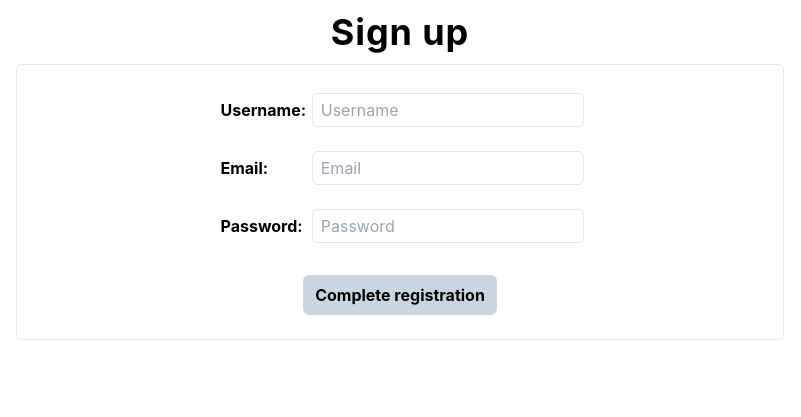
Registration form tests › Test form validation
Expected: the heading "Sign up" is shown, [331,12,469,52]
Expected: the button "Complete registration" is shown, [303,275,497,315]
Fill form
In the field labelled "Username:": (448, 110) [312,93,584,127], type "no"
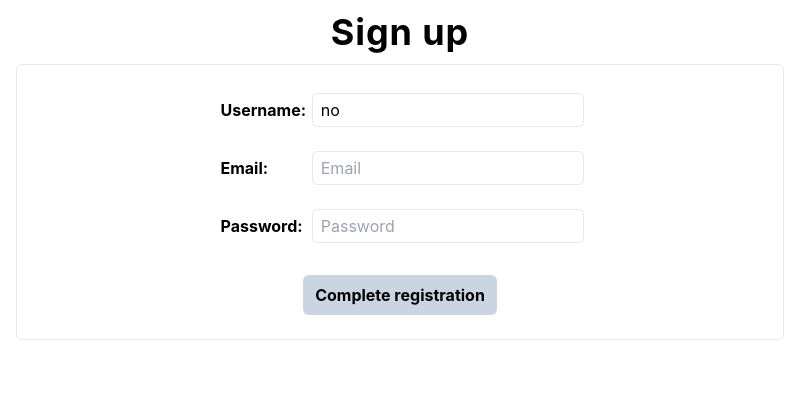
In the field labelled "Email:": (448, 168) [312,151,584,185], type "error"
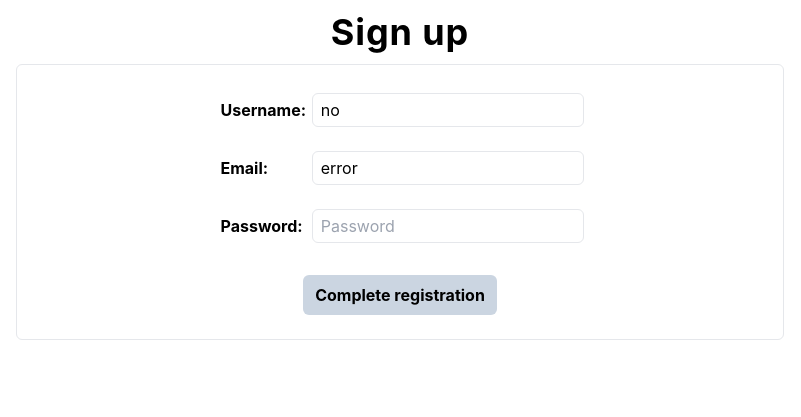
In the password field labelled "Password:": (448, 226) [312,209,584,243], type "test"
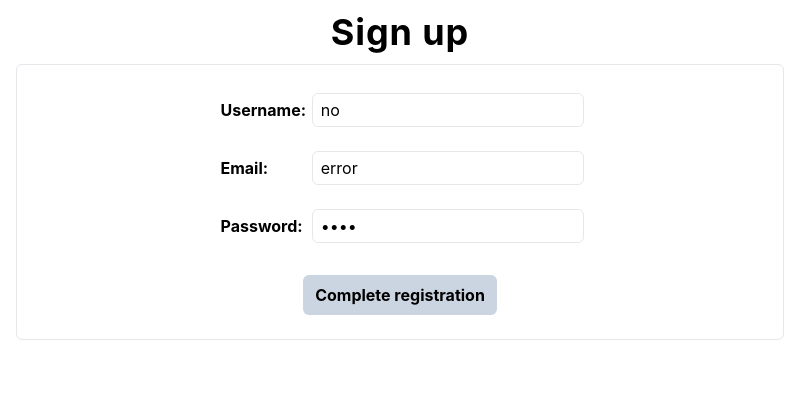
Submit the form from the button "Complete registration", box [303,275,497,315]
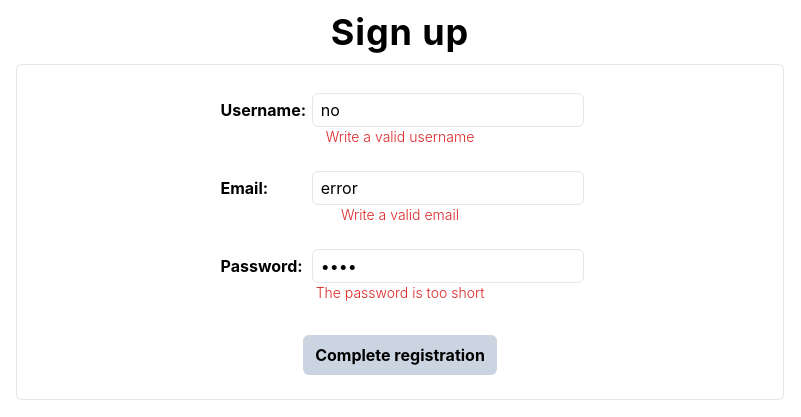
Expected: the number of headings "Write a valid username" is 2, [326,127,474,147]; [341,205,459,225]
Expected: the heading "The password is too short" is shown, [316,283,484,303]
